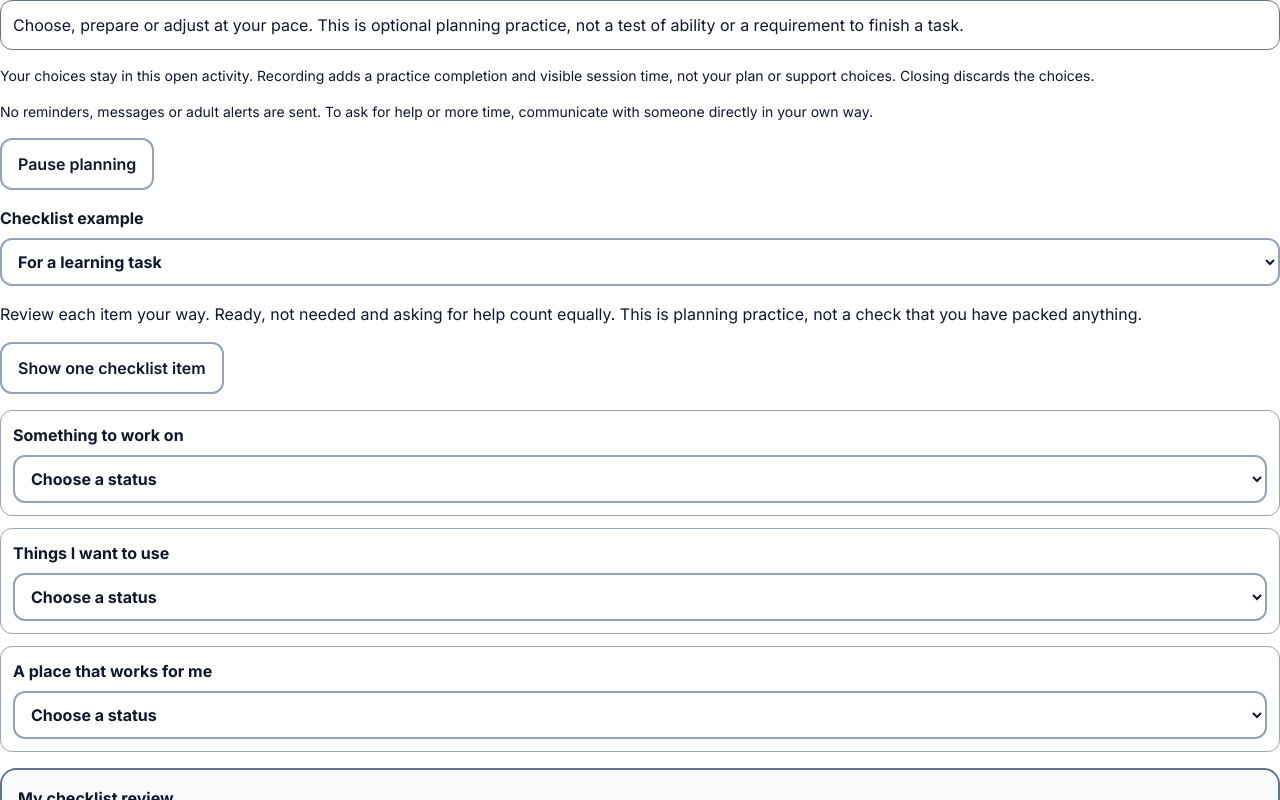
Scenario: Ready-to-Go Checklist › retains choices through one-item navigation without auto-review
Click the button "Show one checklist item" at (112, 368), box left=0, top=342, right=224, bottom=394
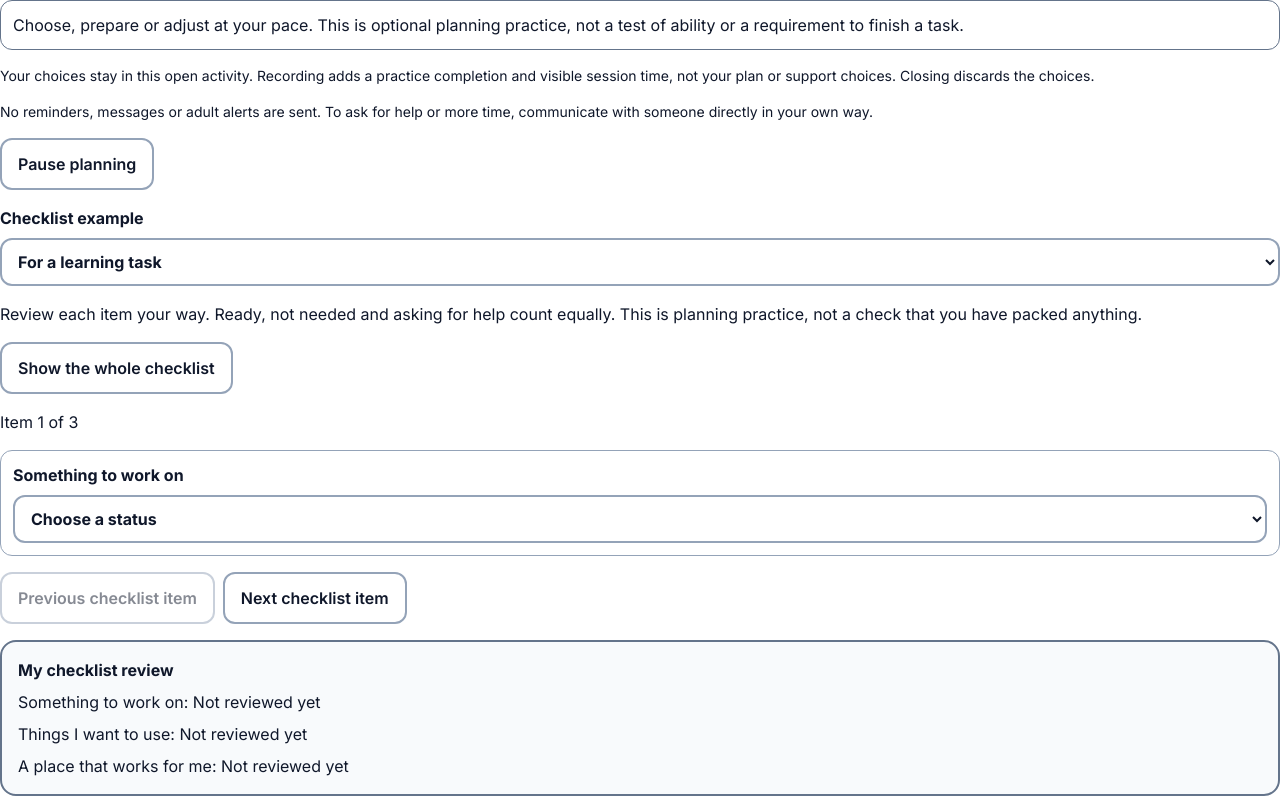
Check: the button "Previous checklist item" is disabled, box left=0, top=572, right=215, bottom=624
Select "Ask for help" in the dropdown named "Status for Something to work on" at (640, 519), box left=13, top=495, right=1267, bottom=543
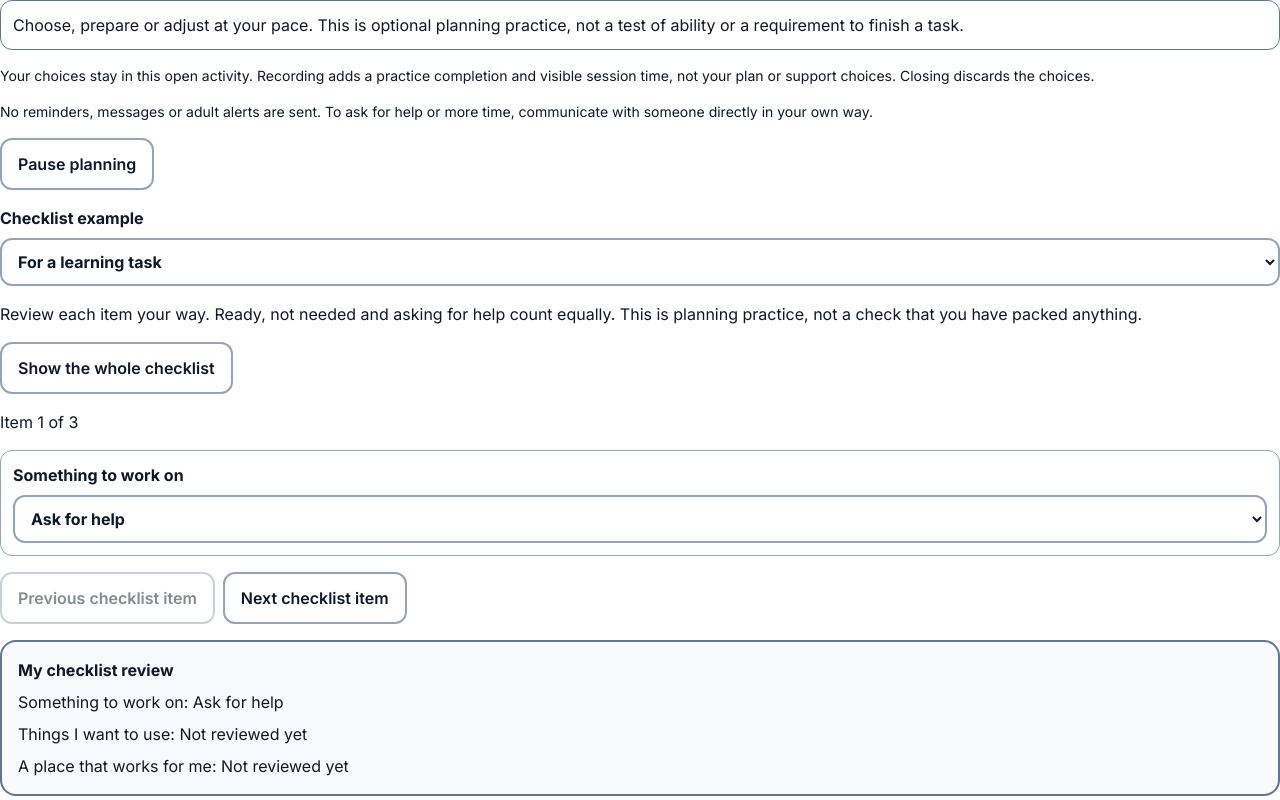
Click the button "Next checklist item" at (315, 598), box left=223, top=572, right=406, bottom=624
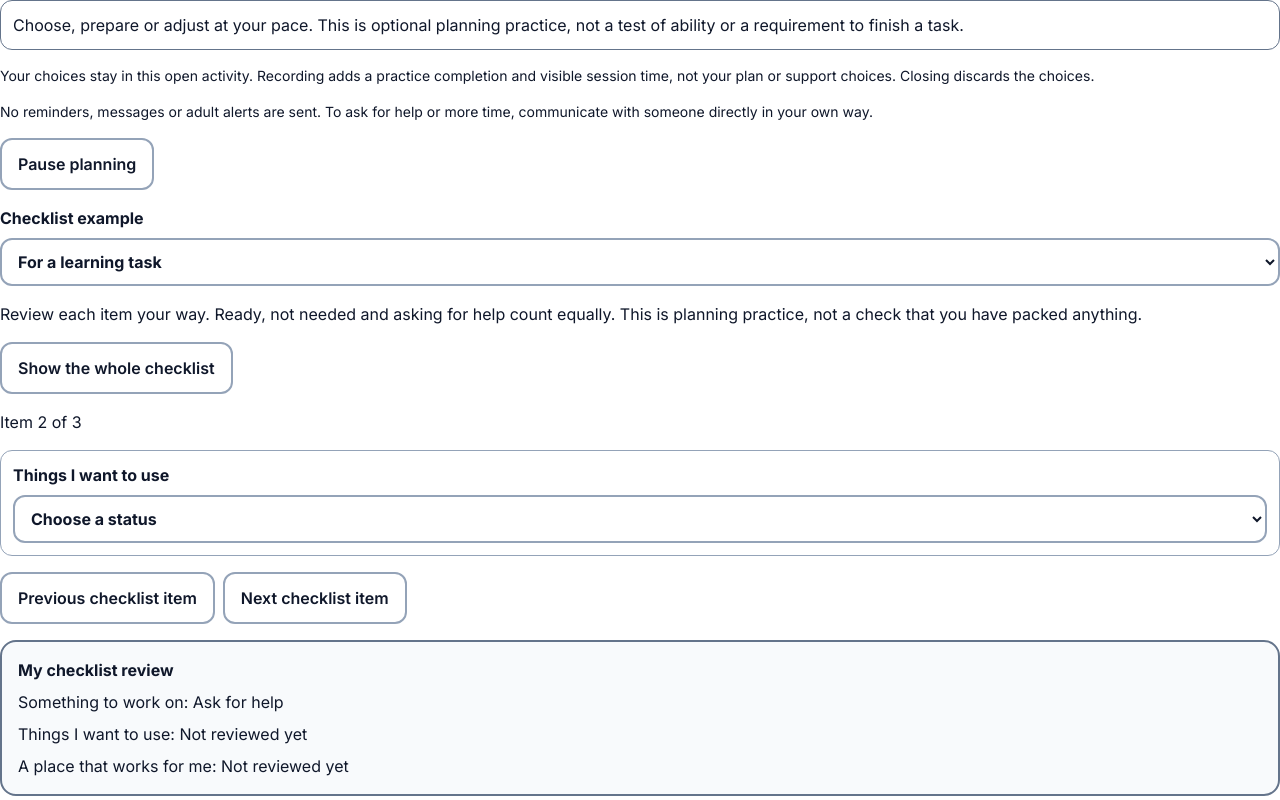
Check: the text "Item 2 of 3" is shown, box left=0, top=412, right=82, bottom=432
Select "Ready" in the dropdown named "Status for Things I want to use" at (640, 519), box left=13, top=495, right=1267, bottom=543
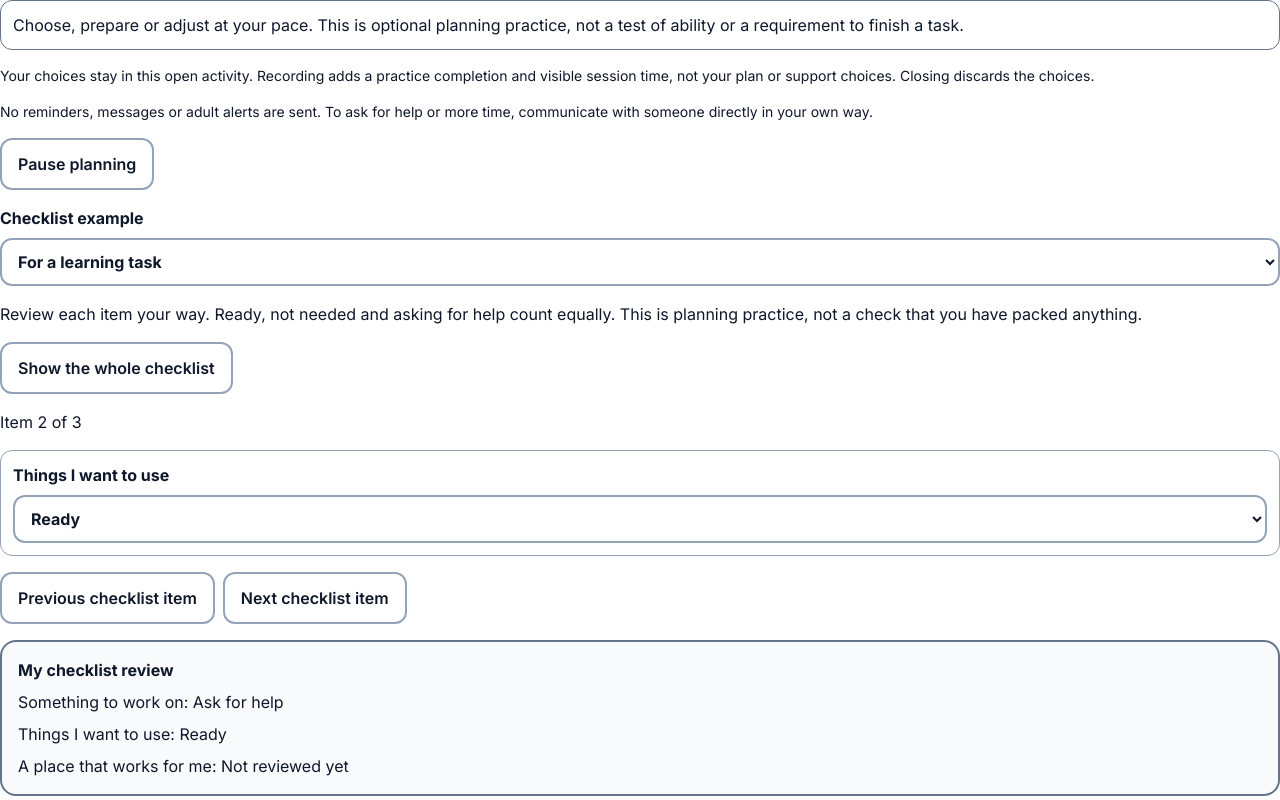
Click the button "Next checklist item" at (315, 598), box left=223, top=572, right=406, bottom=624
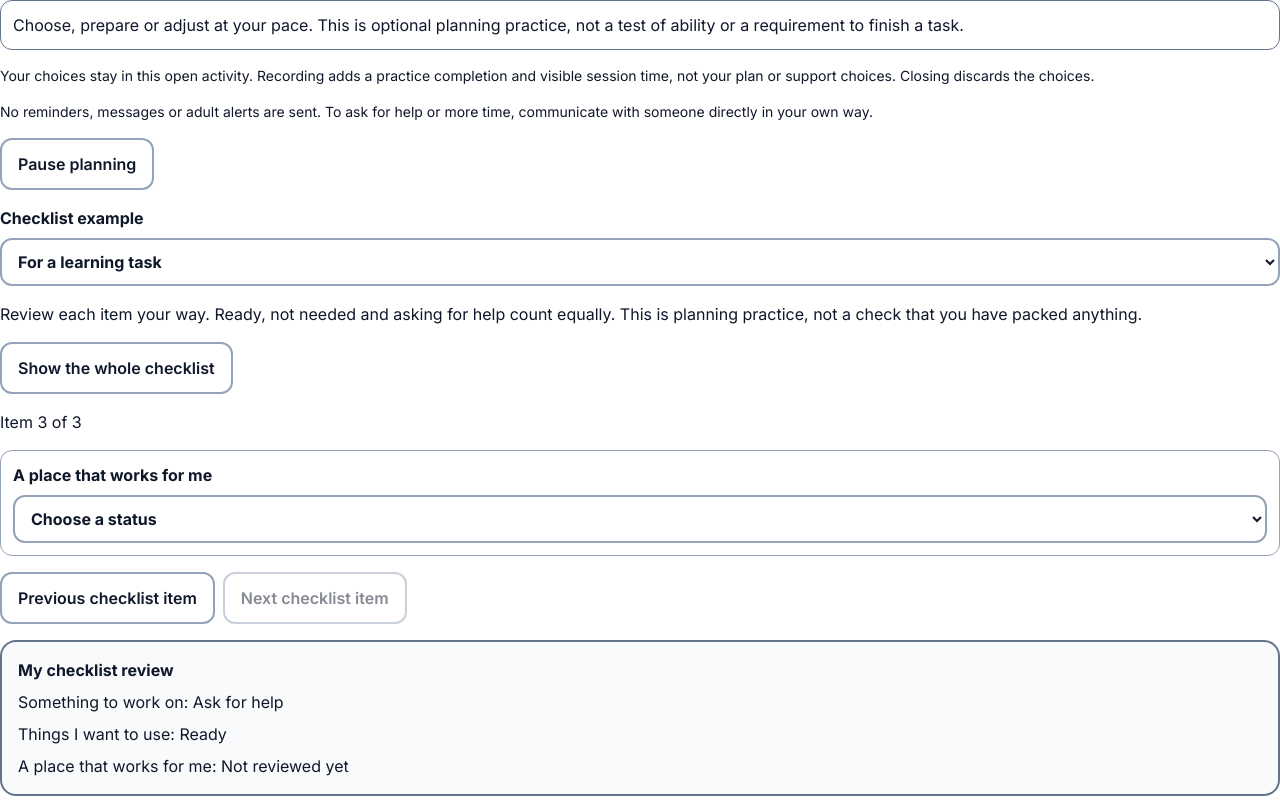
Check: the button "Next checklist item" is disabled, box left=223, top=572, right=406, bottom=624
Select "Not needed" in the dropdown named "Status for A place that works for me" at (640, 519), box left=13, top=495, right=1267, bottom=543
Click the button "Show the whole checklist" at (116, 368), box left=0, top=342, right=233, bottom=394
(page scrolled)
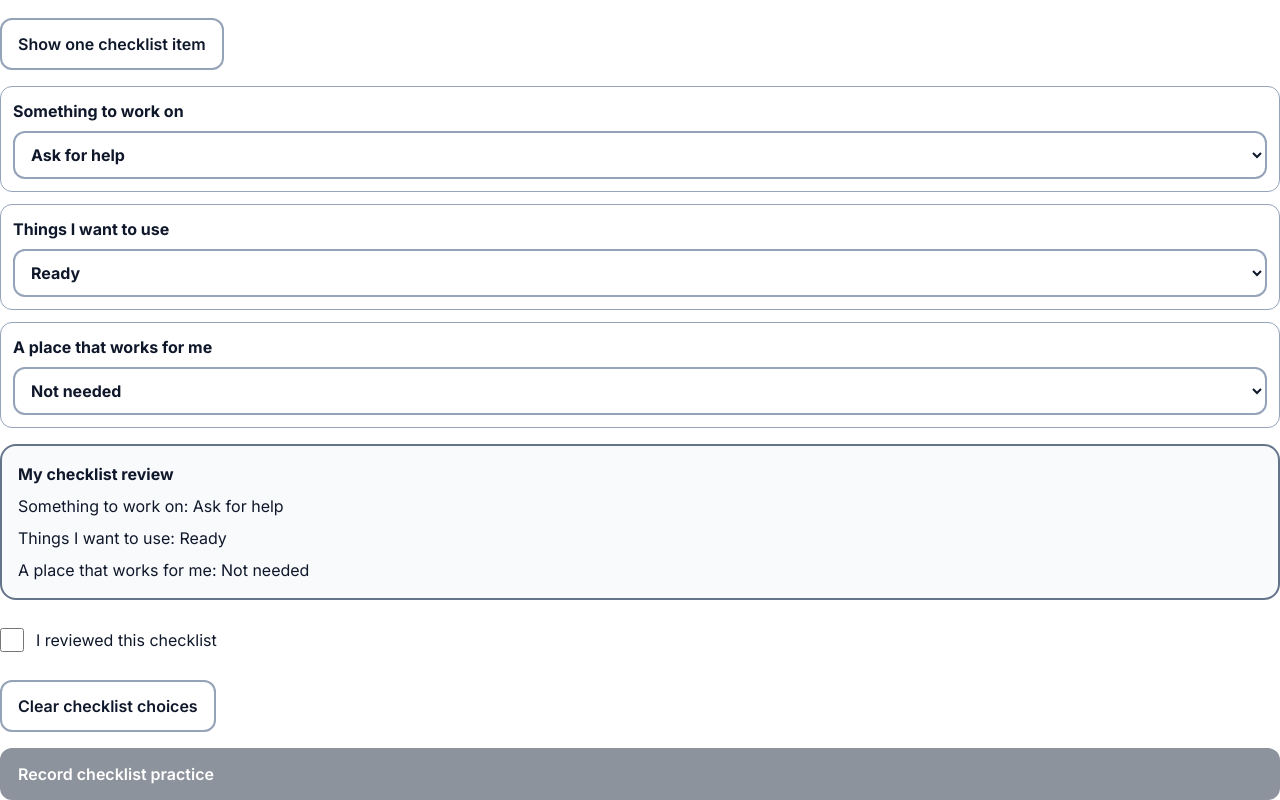
Check: the button "Record checklist practice" is disabled, box left=0, top=748, right=1279, bottom=799
Check: the dropdown named "Status for Something to work on" shows "Ask for help", box left=13, top=131, right=1267, bottom=179
